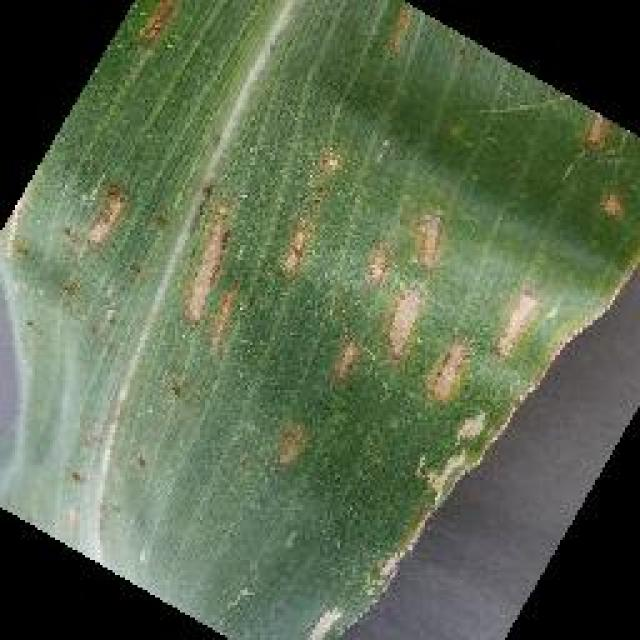Corn_Grey_Leaf_Spot: (80, 82, 550, 532)
